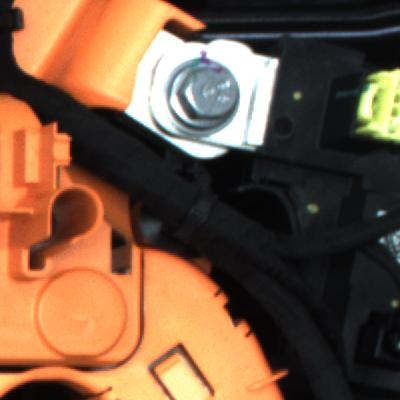nut_b: (147, 50, 256, 144)
